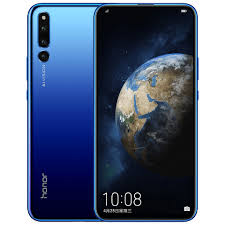mobil: (91, 1, 199, 220), (27, 1, 131, 224)
